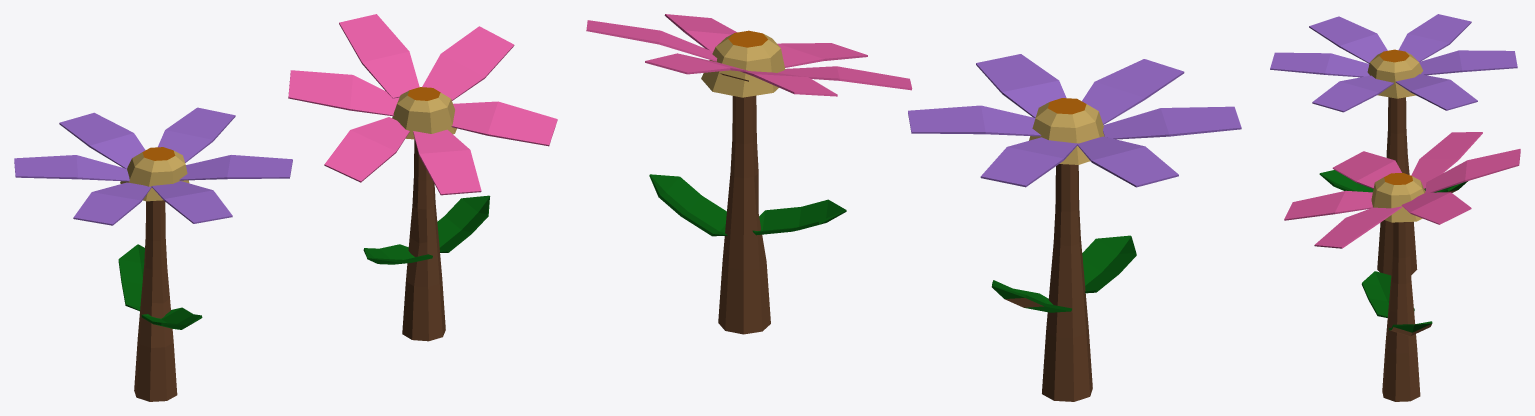
The model's file is flower.glb.
3 renders of one model, left to right at view 1: azimuth 30°, elevation 25°; view 2: azimuth 150°, elevation 25°; view 3: azimuth 270°, elevation 25°, orthographic. The views are drawn at different scales.
Visible parts, largest first — view 1: Cube.009, Cube.003, Cube.006, Cube.011, Cube.013, Cube.010, Cube.008, Cube.007, Cube, Cube.012, Cube.004, Cube.005 (+2 smaller); view 2: Cube.009, Cube.003, Cube.002, Cube.001, Cube.005, Cube.004, Cube.012, Cube, Cube.011, Cube.008, Cube.007, Cube.010 (+2 smaller); view 3: Cube.009, Cube.003, Cube.001, Cube, Cube.002, Cube.012, Cube.006, Cube.013, Cube.007, Cube.004, Cube.005, Cube.010 (+2 smaller).
Part boxes in pixels (x1=…): Cube.009: x1=363, y1=87, x2=490, y2=341; Cube.003: x1=118, y1=147, x2=202, y2=401; Cube.006: x1=339, y1=14, x2=419, y2=98; Cube.011: x1=422, y1=26, x2=514, y2=100; Cube.013: x1=288, y1=70, x2=399, y2=116; Cube.010: x1=451, y1=101, x2=557, y2=146; Cube.008: x1=324, y1=117, x2=409, y2=182; Cube.007: x1=413, y1=129, x2=481, y2=195; Cube: x1=59, y1=112, x2=145, y2=168; Cube.012: x1=14, y1=155, x2=129, y2=181; Cube.004: x1=179, y1=155, x2=292, y2=180; Cube.005: x1=158, y1=107, x2=235, y2=162; Cube.009: x1=649, y1=30, x2=846, y2=334; Cube.003: x1=991, y1=98, x2=1136, y2=401; Cube.002: x1=1103, y1=106, x2=1241, y2=139; Cube.001: x1=1082, y1=59, x2=1184, y2=124; Cube.005: x1=908, y1=105, x2=1041, y2=136; Cube.004: x1=976, y1=54, x2=1066, y2=117; Cube.012: x1=1077, y1=136, x2=1178, y2=187; Cube: x1=980, y1=137, x2=1078, y2=187; Cube.011: x1=586, y1=20, x2=717, y2=61; Cube.008: x1=778, y1=66, x2=912, y2=90; Cube.007: x1=777, y1=43, x2=867, y2=67; Cube.010: x1=664, y1=14, x2=736, y2=51; Cube.009: x1=1361, y1=173, x2=1432, y2=401; Cube.003: x1=1319, y1=49, x2=1467, y2=275; Cube.001: x1=1270, y1=52, x2=1369, y2=77; Cube: x1=1419, y1=50, x2=1517, y2=75; Cube.002: x1=1309, y1=16, x2=1387, y2=63; Cube.012: x1=1398, y1=14, x2=1471, y2=61; Cube.006: x1=1425, y1=149, x2=1520, y2=192; Cube.013: x1=1411, y1=132, x2=1482, y2=188; Cube.007: x1=1284, y1=190, x2=1372, y2=220; Cube.004: x1=1312, y1=75, x2=1393, y2=112; Cube.005: x1=1396, y1=74, x2=1477, y2=110; Cube.010: x1=1314, y1=206, x2=1402, y2=248.
Size of the model in its own units: 40.57 by 20.6 by 19.71.
